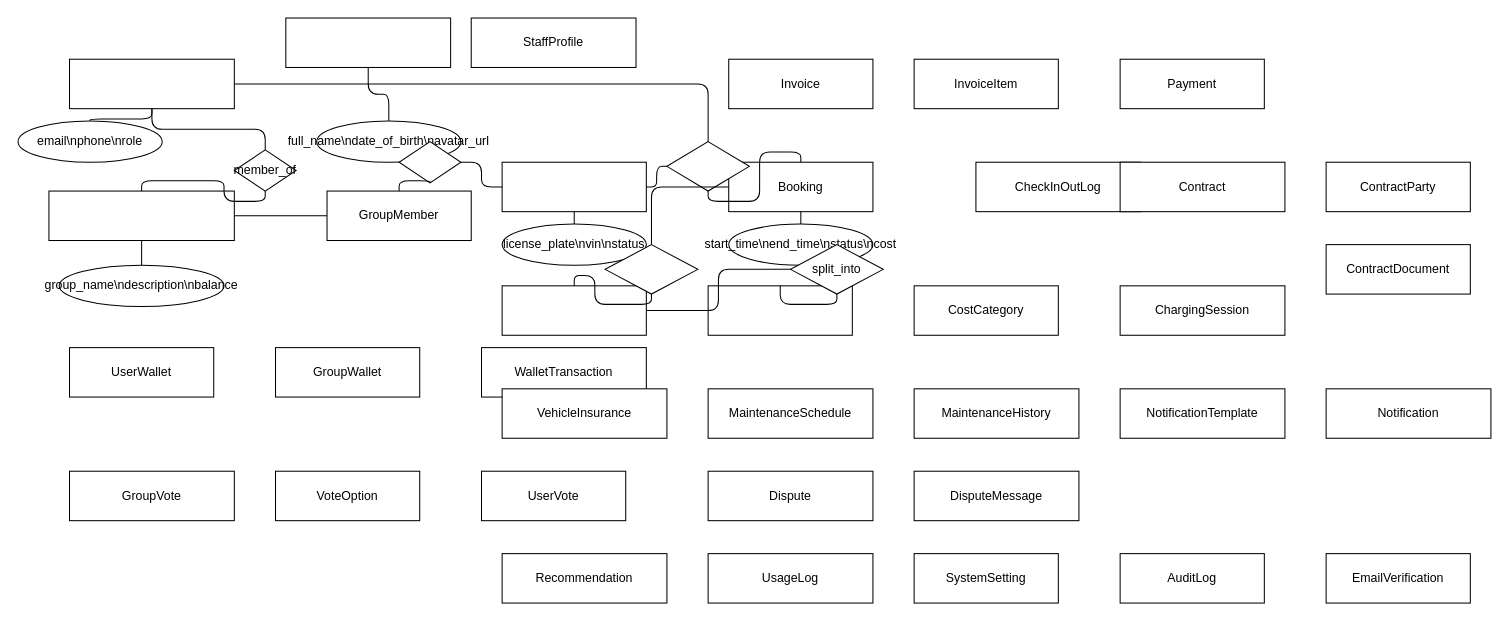
Image size: 1509x621. Some labels were removed from this diagram. Here are the shapes that lost their labels. From the top down, the centre of each, then its label:
At point (368, 42): "UserProfile".
At point (151, 83): "User".
At point (429, 162): "owns".
At point (707, 166): "books".
At point (573, 186): "Vehicle".
At point (141, 215): "CoOwnershipGroup".
At point (651, 269): "generates_cost".
At point (573, 310): "Cost".
At point (779, 310): "CostSplit".
